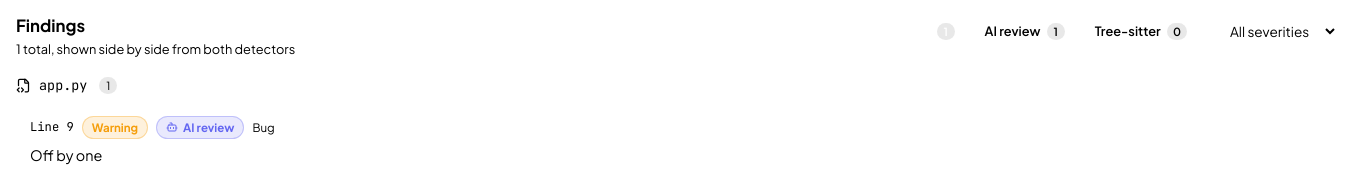
Scenario: FindingsPanel › explains when filters hide everything
Click the tab "Tree-sitter 0" at {"x": 1141, "y": 32}, box [1081,16,1201,47]
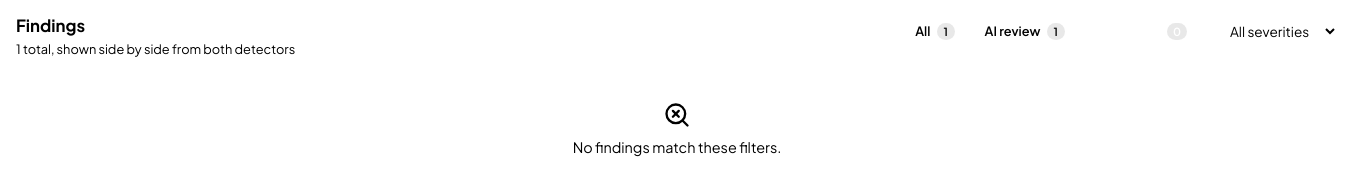
Result: the text "No findings match these filters." is shown at [573,137,781,159]
